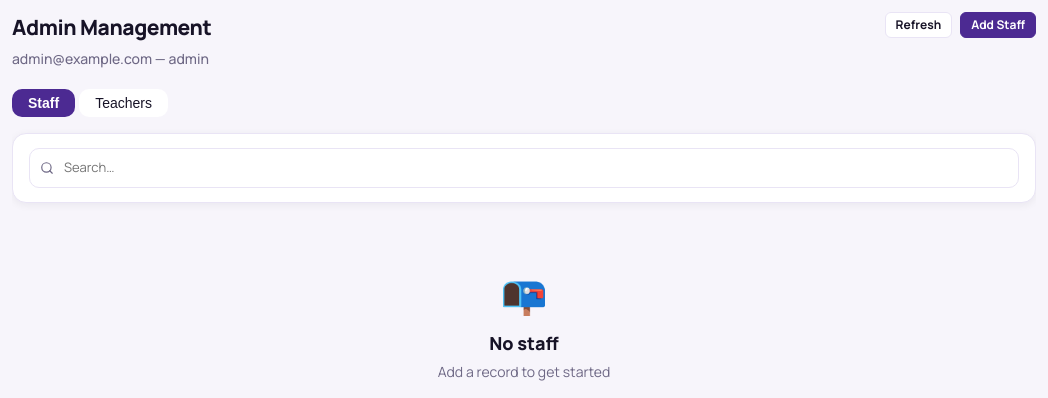
it: AdminManagementPage teachers tab states › shows an error banner with retry on the teachers tab, not "No teachers"
The width and height of the screenshot is (1048, 398).
Click the button "Teachers" at (124, 103), box [79, 88, 168, 117]
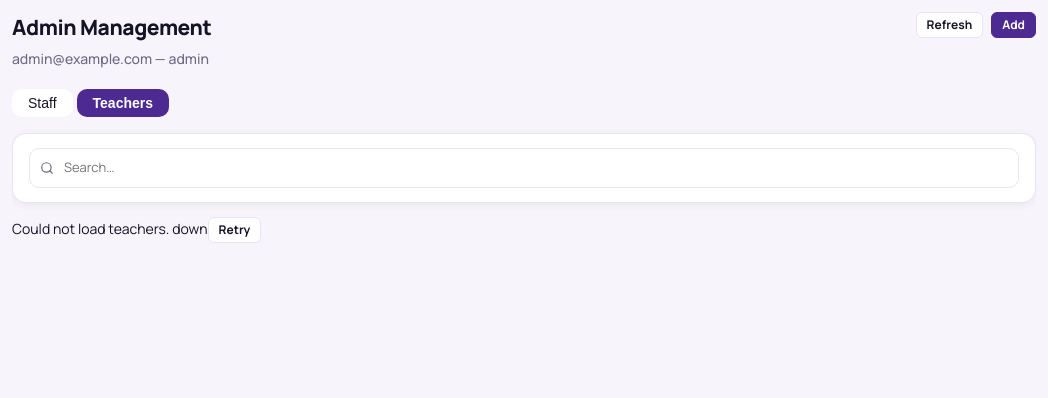
Expected: the message shows "Could not load teachers. down", [12, 219, 208, 238]
